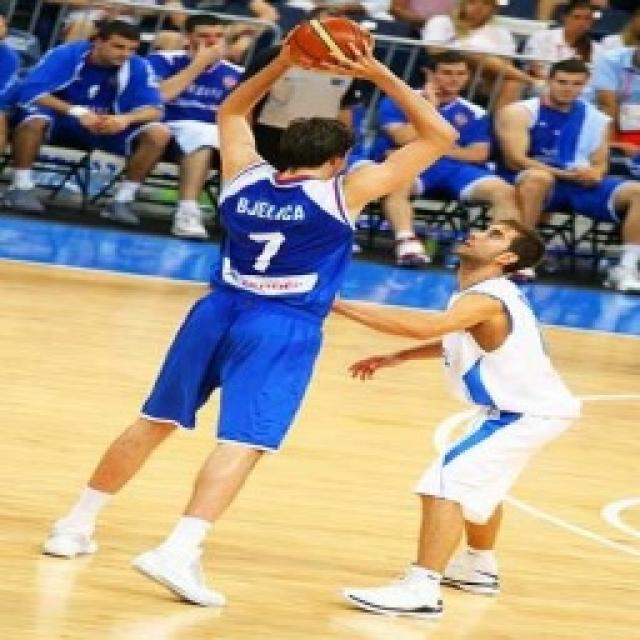rim: (283, 0, 381, 82)
